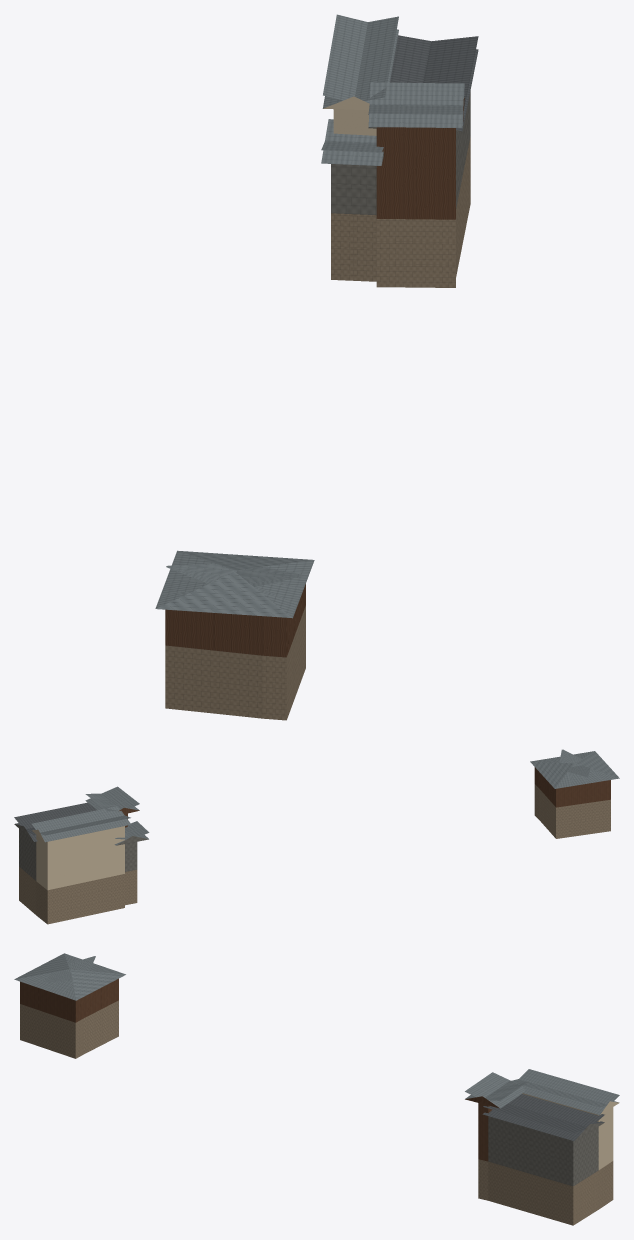
The model's file is bld_c32_43_248.gltf.
3 renders of one model, top to bottom at view 1: azimuth 30°, elevation 25°; view 2: azimuth 150°, elevation 25°; view 3: azimuth 270°, elevation 25°, orthographic. The views are drawn at different scales.
Visible parts, largest first — view 1: bld_c32_43_248; view 2: bld_c32_43_248; view 3: bld_c32_43_248.
Part boxes in pixels (<box>): bld_c32_43_248: <box>155,14,478,720</box>; bld_c32_43_248: <box>14,749,619,924</box>; bld_c32_43_248: <box>14,953,619,1225</box>.
Size of the model in its own units: 59.95 by 13.8 by 71.43.
Materials: 9 (9 with a texture image).
